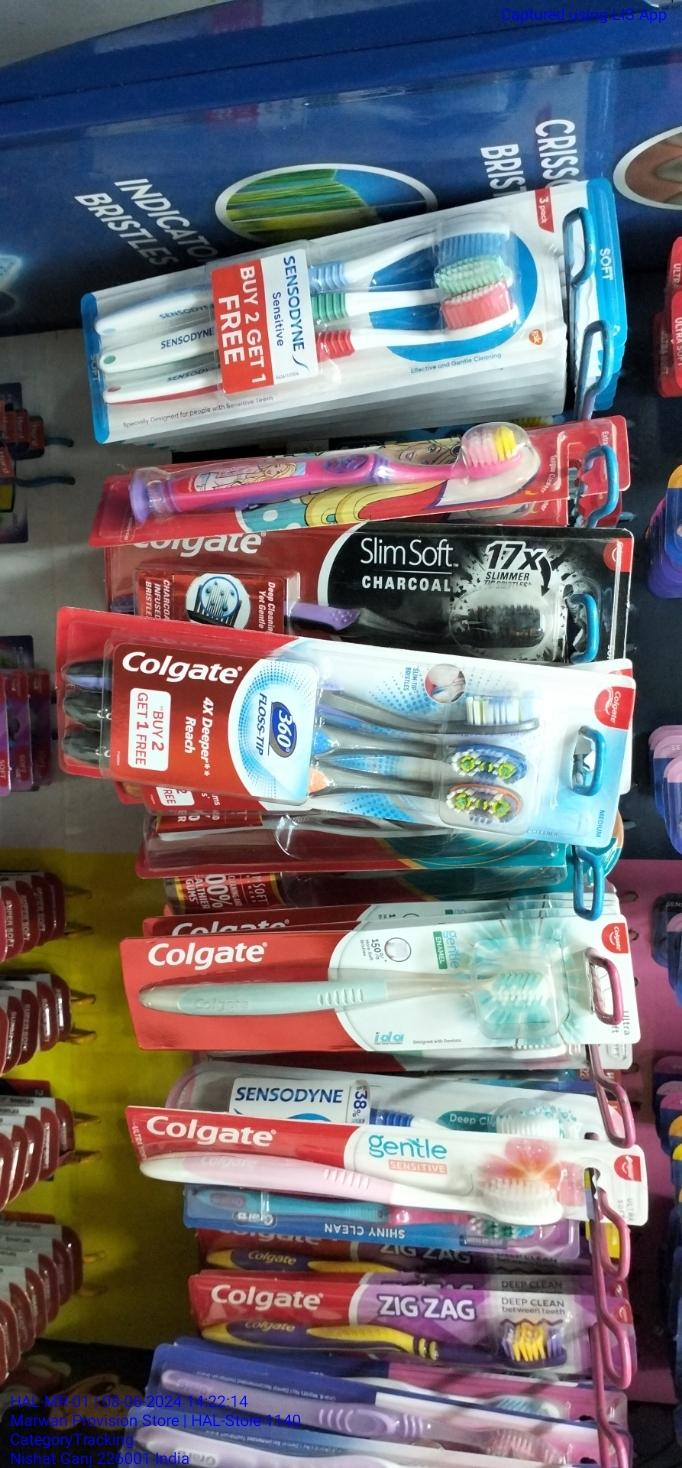15: (110, 150, 203, 1281)
soap: (245, 96, 289, 1249)
